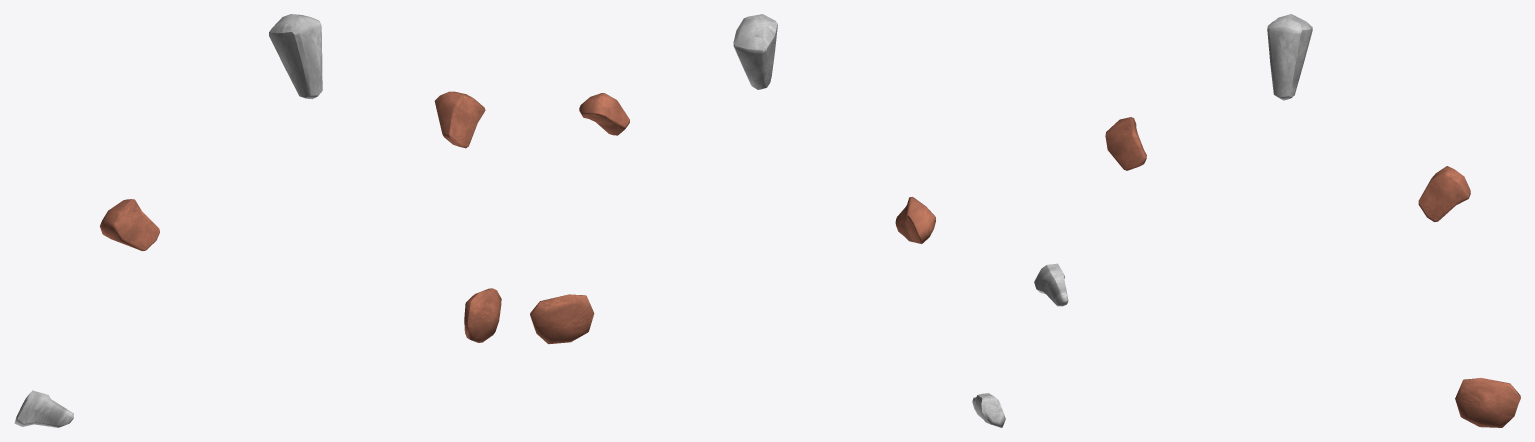
The model's file is PortalStones01.glb.
3 renders of one model, left to right at view 1: azimuth 30°, elevation 25°; view 2: azimuth 150°, elevation 25°; view 3: azimuth 330°, elevation 25°, orthographic. The views are drawn at different scales.
Visible parts, largest first — view 1: PortalStones01; view 2: PortalStones01; view 3: PortalStones01.
Part boxes in pixels (bbox=[...]): PortalStones01: bbox=[14, 14, 501, 427]; PortalStones01: bbox=[530, 14, 1005, 427]; PortalStones01: bbox=[1034, 14, 1520, 427].
Bounding box in the file's own units: 22.55 × 16.69 × 2.8.
1 material, 1 textured.
